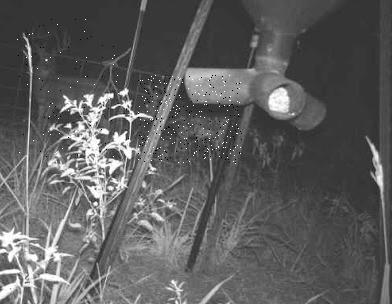Deer: (17, 16, 119, 158), (138, 75, 242, 164)
